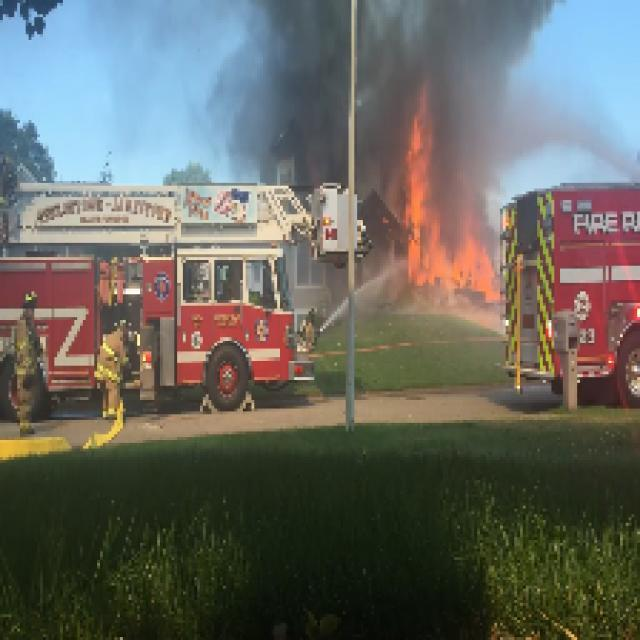Fire: (398, 112, 428, 298), (433, 246, 491, 291)
Smoke: (286, 11, 396, 192), (419, 25, 502, 98)
